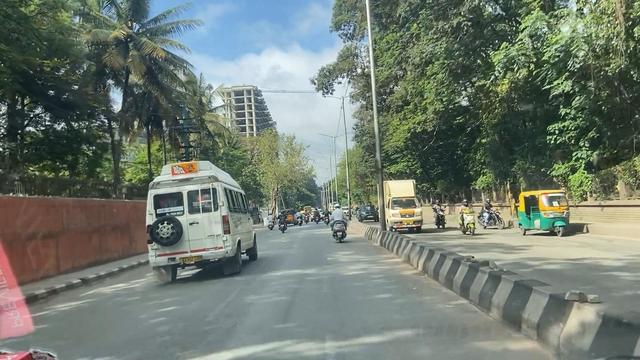HMV: (119, 148, 262, 278)
